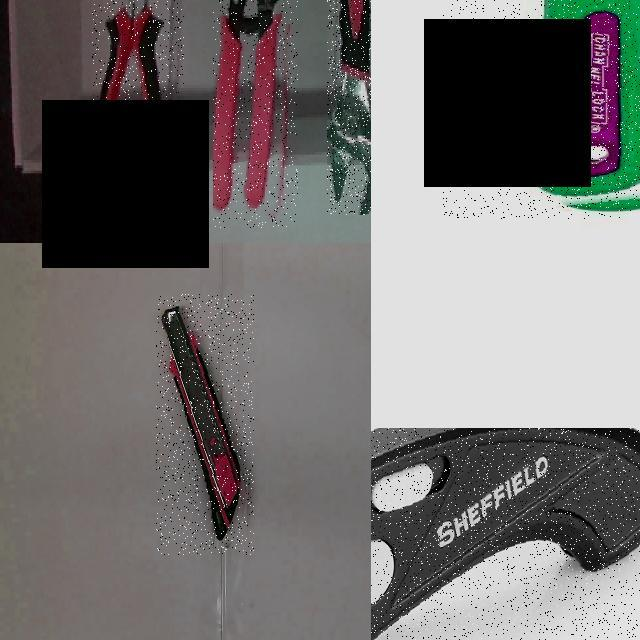estilete: (162, 307, 239, 539)
